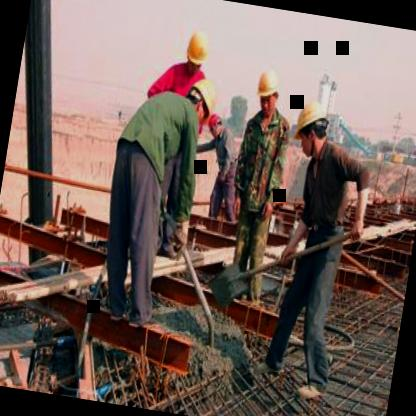helmet: (290, 94, 332, 164), (184, 71, 219, 127), (252, 62, 284, 120), (180, 23, 214, 76), (206, 108, 224, 140)
